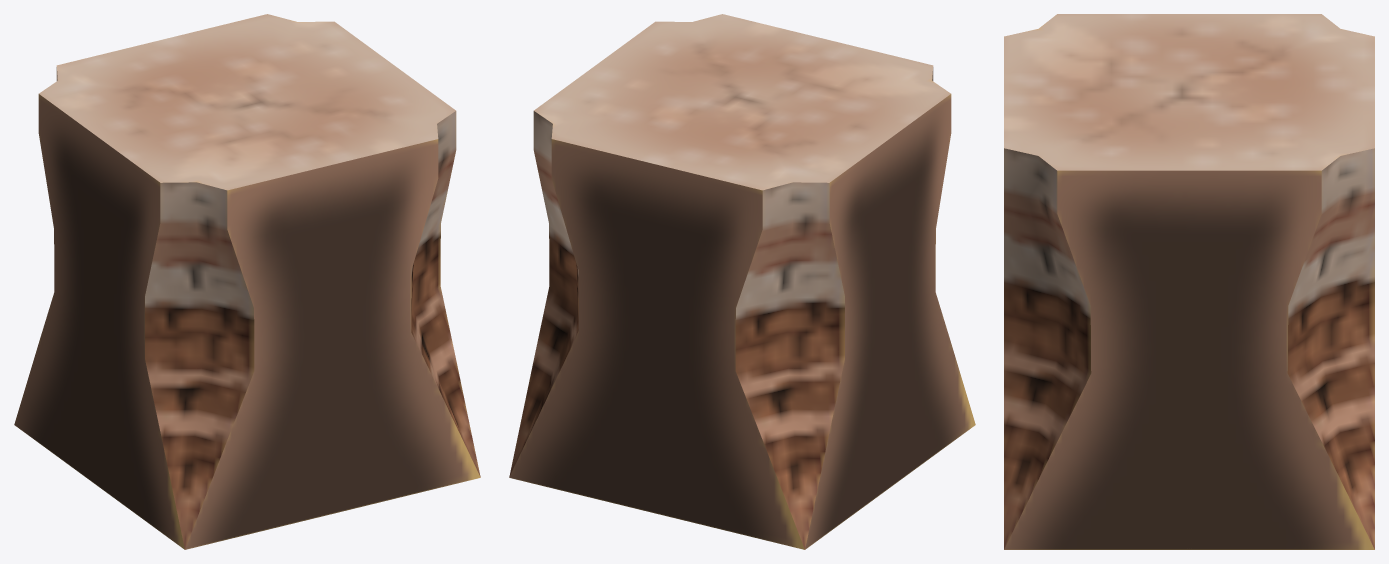
File: Tile_4.fbx
3 renders of one model, left to right at view 1: azimuth 30°, elevation 25°; view 2: azimuth 150°, elevation 25°; view 3: azimuth 270°, elevation 25°, orthographic. The views are drawn at different scales.
Parts seen in each view (by area): view 1: 4; view 2: 4; view 3: 4.
Part boxes in pixels (left/top/right/bottom): 4: left=14, top=14, right=480, bottom=549; 4: left=509, top=14, right=975, bottom=549; 4: left=1004, top=14, right=1374, bottom=549.
Bounding box in the file's own units: 3 × 3.38 × 3.
